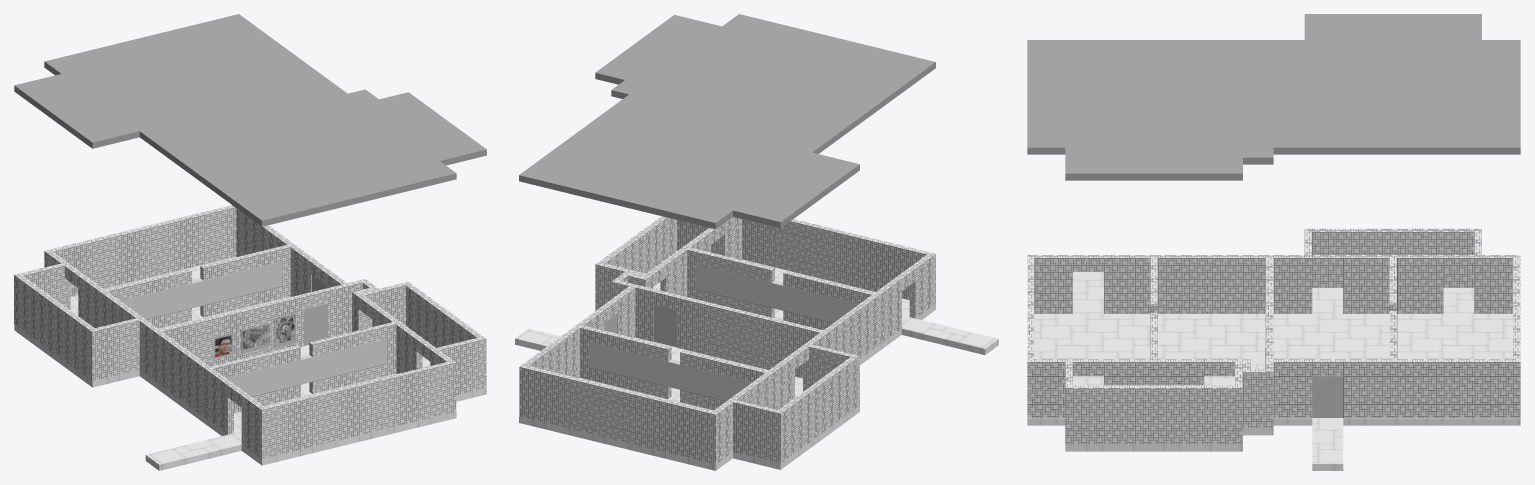
File: Level_M_2.FBX
3 views of the same model, side by side, from view 1: azimuth 30°, elevation 25°; view 2: azimuth 150°, elevation 25°; view 3: azimuth 270°, elevation 25° (orthographic). The views are drawn at different scales.
Visible parts, largest first — view 1: Text004, Text005, Text003, Box003, Box004, Door1, Dec_Paint_1, Dec_Paint_2; view 2: Text004, Text005, Text003, Box003, Box004, Door1; view 3: Text005, Text004, Text003, Door002.
Part boxes in pixels (<box>): Text004: <box>14,205,486,459</box>; Text005: <box>14,14,486,226</box>; Text003: <box>14,257,486,470</box>; Box003: <box>226,339,387,396</box>; Box004: <box>121,262,281,319</box>; Door1: <box>304,304,326,345</box>; Dec_Paint_1: <box>241,323,269,353</box>; Dec_Paint_2: <box>274,313,295,347</box>; Text004: <box>519,216,935,464</box>; Text005: <box>519,14,935,229</box>; Text003: <box>515,259,998,470</box>; Box003: <box>696,264,858,322</box>; Box004: <box>589,342,751,400</box>; Door1: <box>653,304,676,347</box>; Text005: <box>1027,14,1520,180</box>; Text004: <box>1027,228,1520,444</box>; Text003: <box>1027,272,1520,470</box>; Door002: <box>1312,376,1343,417</box>.
Bounding box in the file's own units: 152 × 99.29 × 160.
